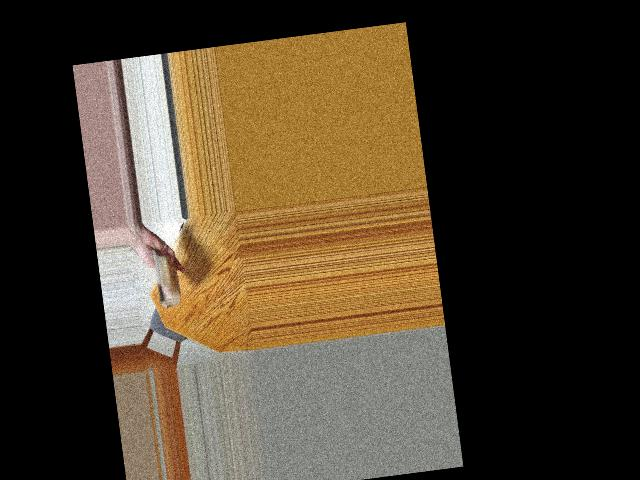cheese: (142, 250, 183, 305)
